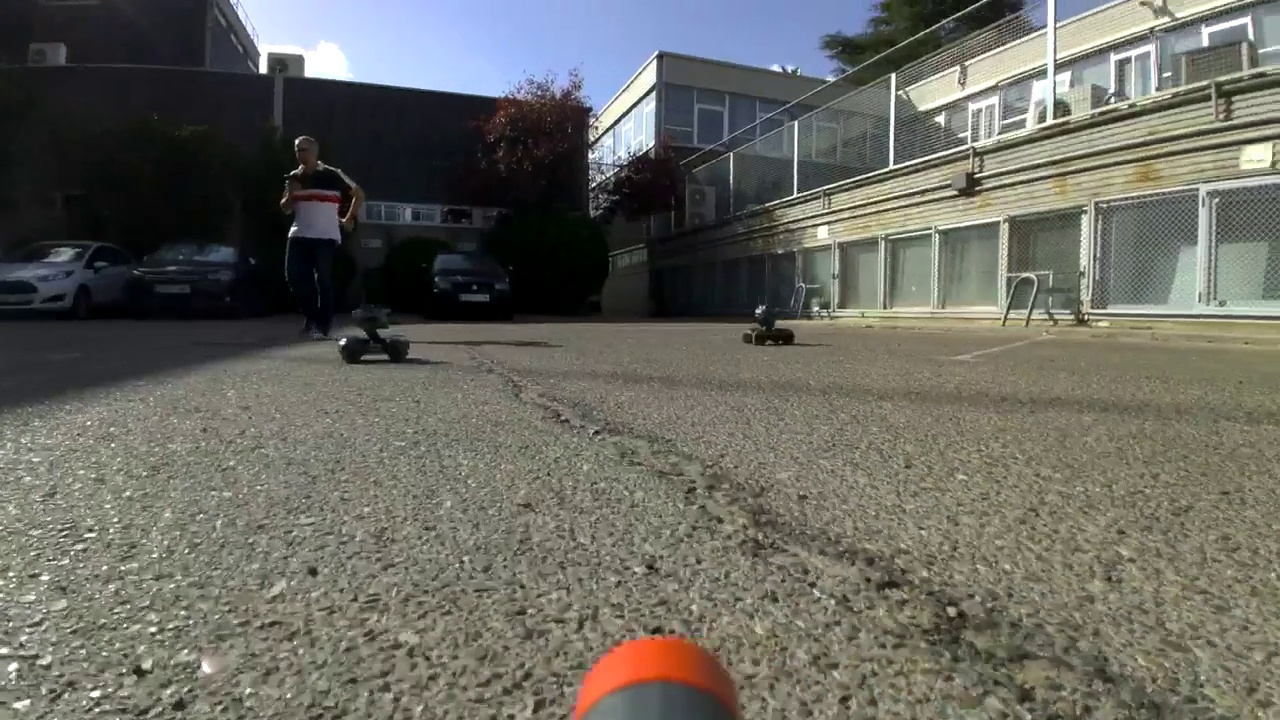robot: (331, 297, 418, 365), (742, 303, 796, 350)
